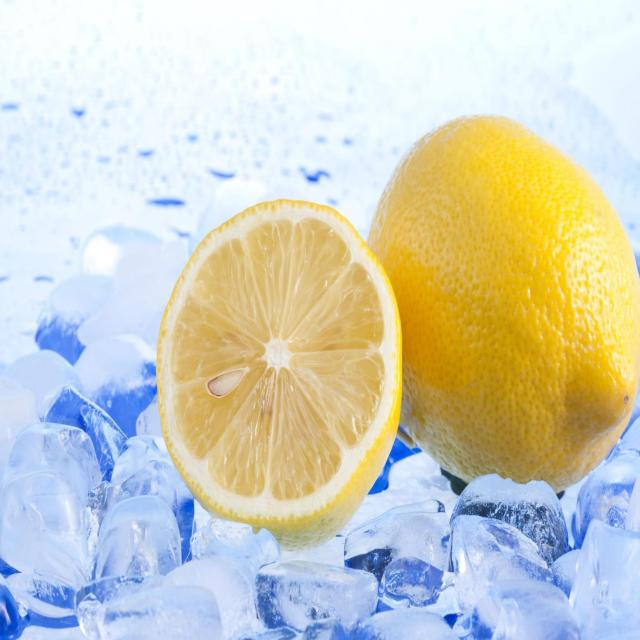lemon: (352, 104, 640, 506), (150, 192, 407, 558)
